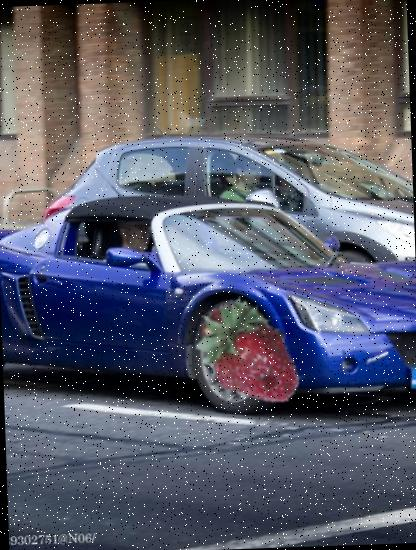Strawberry: (186, 292, 313, 419)
